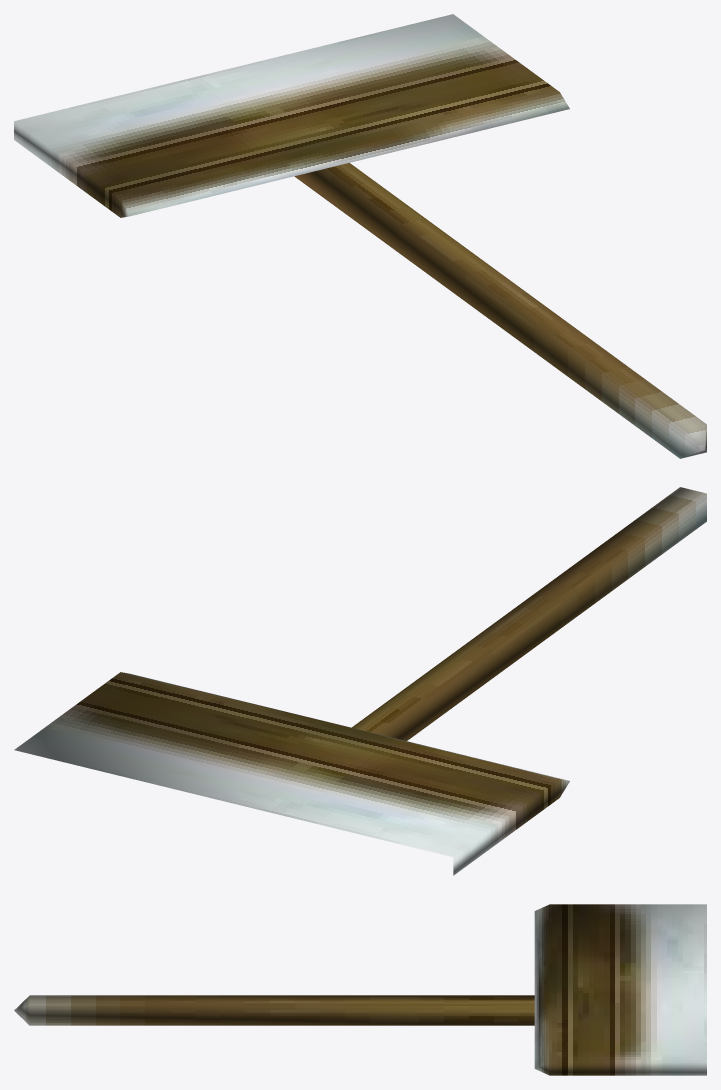
3 renders of one model, top to bottom at view 1: azimuth 30°, elevation 25°; view 2: azimuth 150°, elevation 25°; view 3: azimuth 270°, elevation 25°, orthographic. The views are drawn at different scales.
Visible parts, largest first — view 1: model_Object43; view 2: model_Object43; view 3: model_Object43.
Boxes of the visible parts, x1=… form: model_Object43: x1=14, y1=14, x2=706, y2=458; model_Object43: x1=14, y1=487, x2=706, y2=875; model_Object43: x1=14, y1=904, x2=706, y2=1075.
Size of the model in its own units: 0.8821 by 0.0985 by 1.64.
2 materials, 2 textured.
